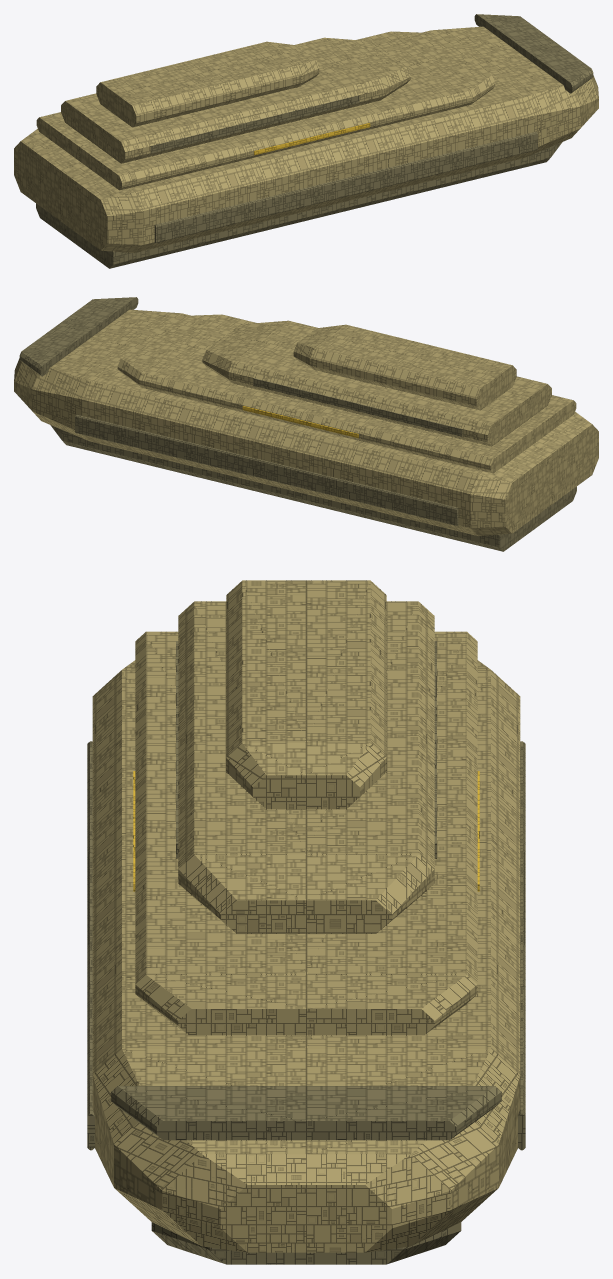
File: artillery_lod2.glb
The picture shows the model from 3 angles, top to bottom: view 1: azimuth 30°, elevation 25°; view 2: azimuth 150°, elevation 25°; view 3: azimuth 270°, elevation 25°; orthographic projection. The views are drawn at different scales.
Parts seen in each view (by area): view 1: artillery_lod2_body; view 2: artillery_lod2_body; view 3: artillery_lod2_body.
Boxes of the visible parts, x1,y1,x2,y2 form: artillery_lod2_body: (14, 14, 598, 268); artillery_lod2_body: (14, 297, 598, 551); artillery_lod2_body: (87, 580, 525, 1264).
Bounding box in the file's own units: 22.3 × 6.35 × 8.2.
Materials: 1 (1 with a texture image).
